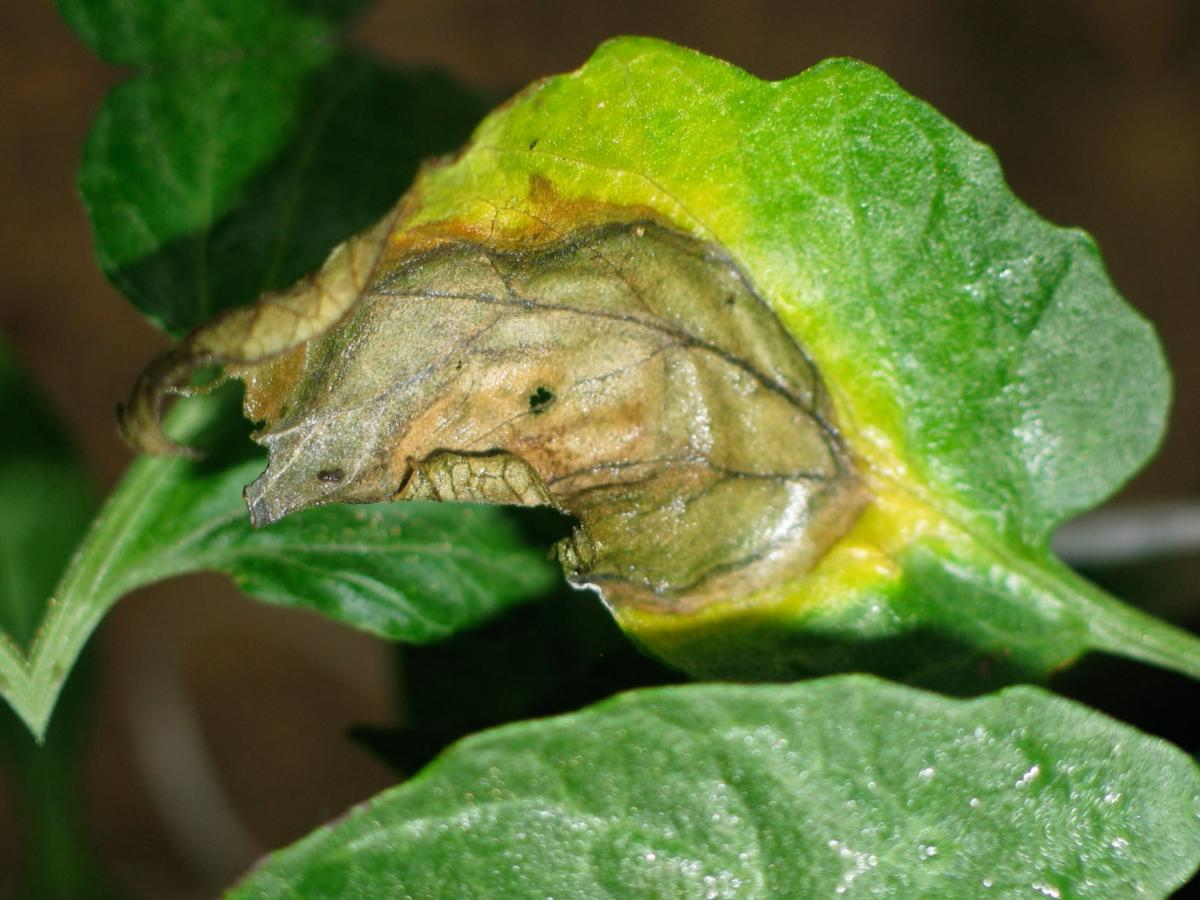Tomato leaf late blight: (69, 0, 1200, 874)
